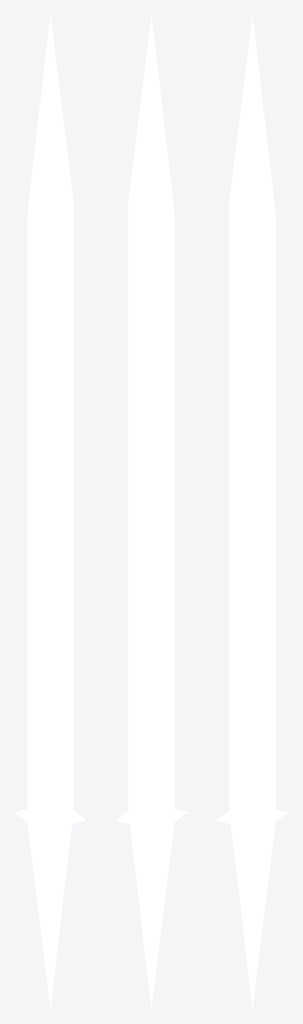
Rendered from laser2.glb.
3 views of the same model, side by side, from view 1: azimuth 30°, elevation 25°; view 2: azimuth 150°, elevation 25°; view 3: azimuth 330°, elevation 25° (orthographic).
Visible parts, largest first — view 1: group_13; view 2: group_13; view 3: group_13.
Boxes of the visible parts, box(x1,y1,x2,y2) form: group_13: box(14, 14, 86, 1009); group_13: box(115, 14, 187, 1009); group_13: box(216, 14, 288, 1009).
Bounding box in the file's own units: 160 × 3294 × 160.
1 material, 1 textured.
